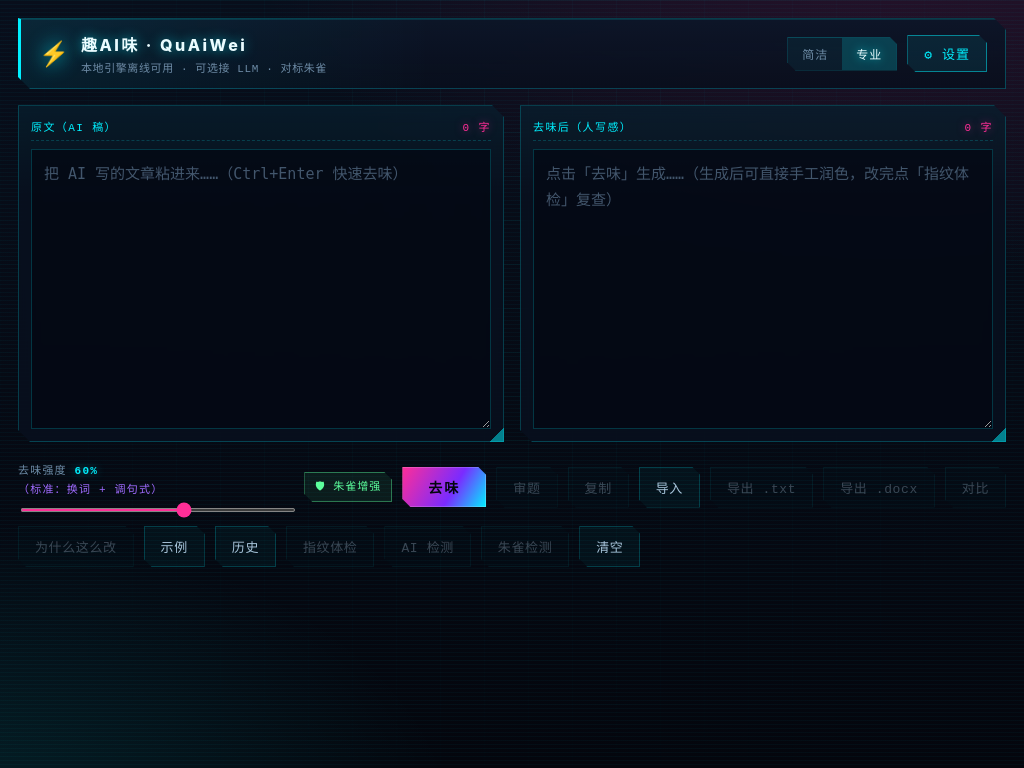
Test: App 去味闭环 › LLM 引擎产出：界面文案如实写「已使用 API 深度去味」
The image size is (1024, 768).
Type "值得注意的是，随着人工智能技术的快速发展，AI 写作工具应运而生。综上所述，数字化办公不仅极大地提升了工作效率，而且有效地降低了运营成本。然而，技术的变革也带来了一系列值得关注的挑战。" into the text box with placeholder "把 AI 写的文章粘进来……（Ctrl+Enter 快速去味）" at (261, 289), box top-left (31, 149), bottom-right (491, 429)
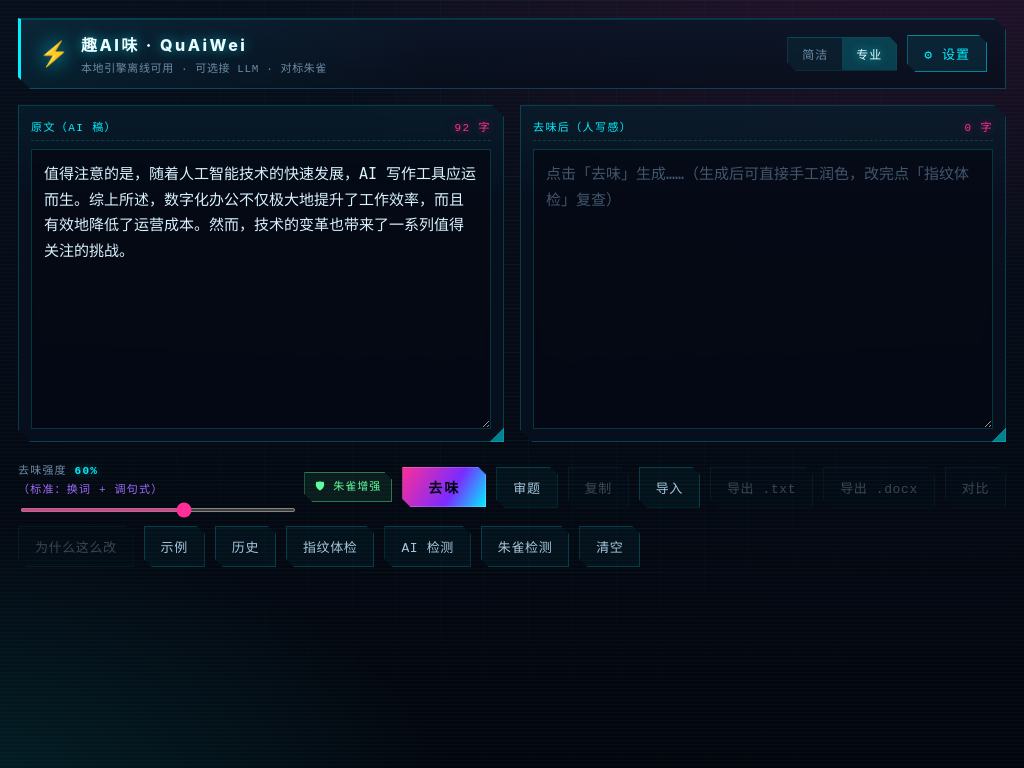
Click the button "去味" at (444, 487), box top-left (402, 467), bottom-right (486, 507)
(page scrolled)
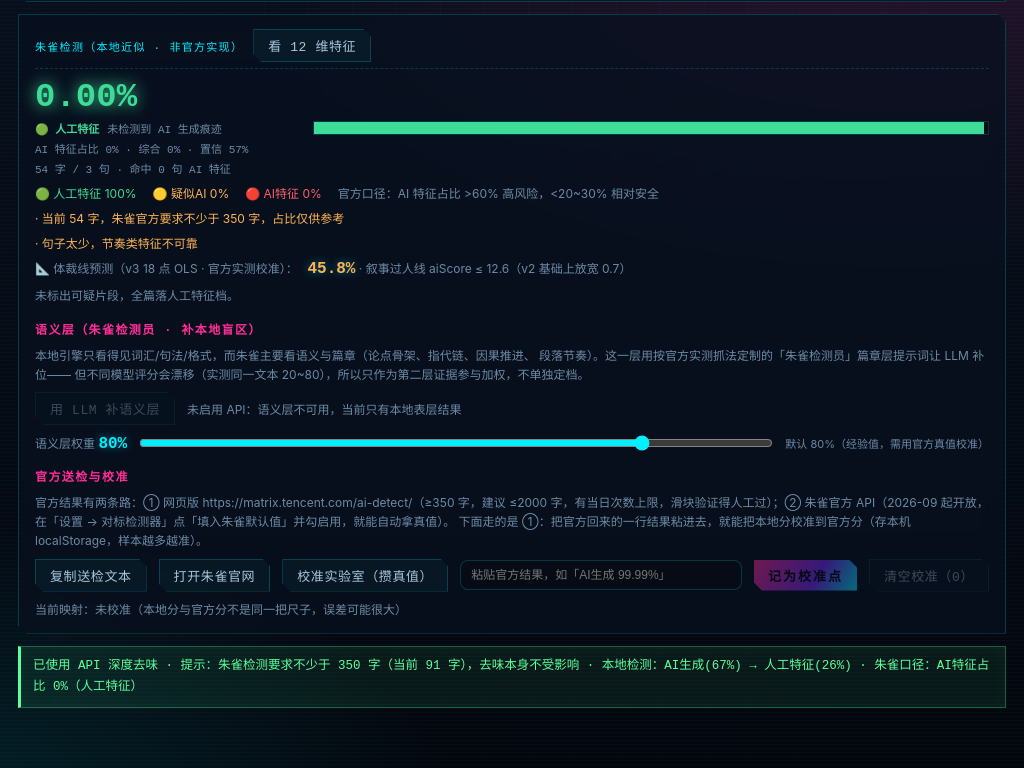
Expected: the text "已使用 API 深度去味" is shown, top-left (33, 659), bottom-right (989, 694)
